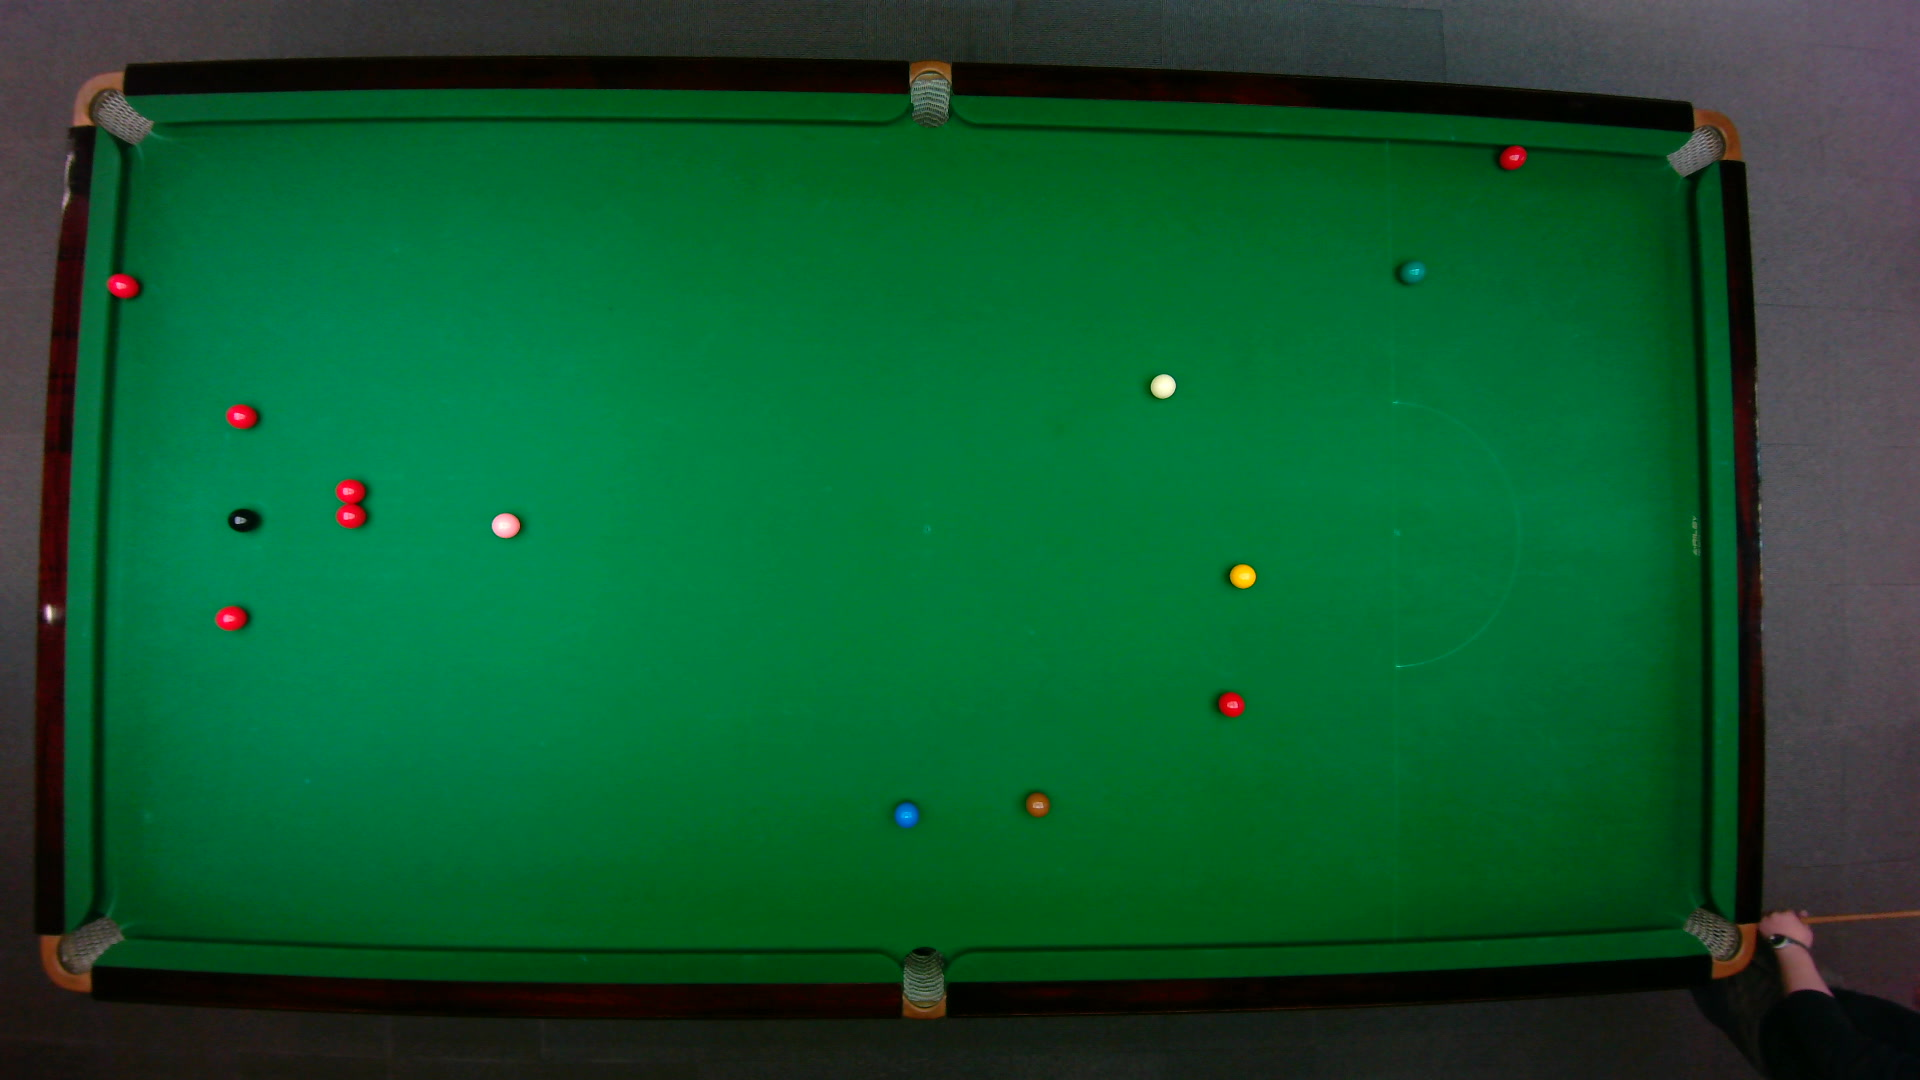bag: (37, 914, 127, 992), (70, 69, 156, 146), (1679, 905, 1759, 977), (1663, 107, 1743, 179), (899, 944, 947, 1022), (909, 59, 953, 131)
black: (225, 506, 261, 534)
blue: (891, 800, 922, 829)
brown: (1025, 791, 1052, 819)
green: (1396, 258, 1428, 287)
pink: (489, 512, 522, 541)
red: (104, 272, 142, 301), (223, 402, 260, 431), (214, 604, 251, 633), (334, 502, 369, 531), (1215, 690, 1247, 719), (1497, 142, 1528, 171), (334, 477, 368, 502)
white: (1147, 371, 1178, 398)
yellow: (1226, 562, 1258, 591)
zone: (1390, 398, 1520, 669)
